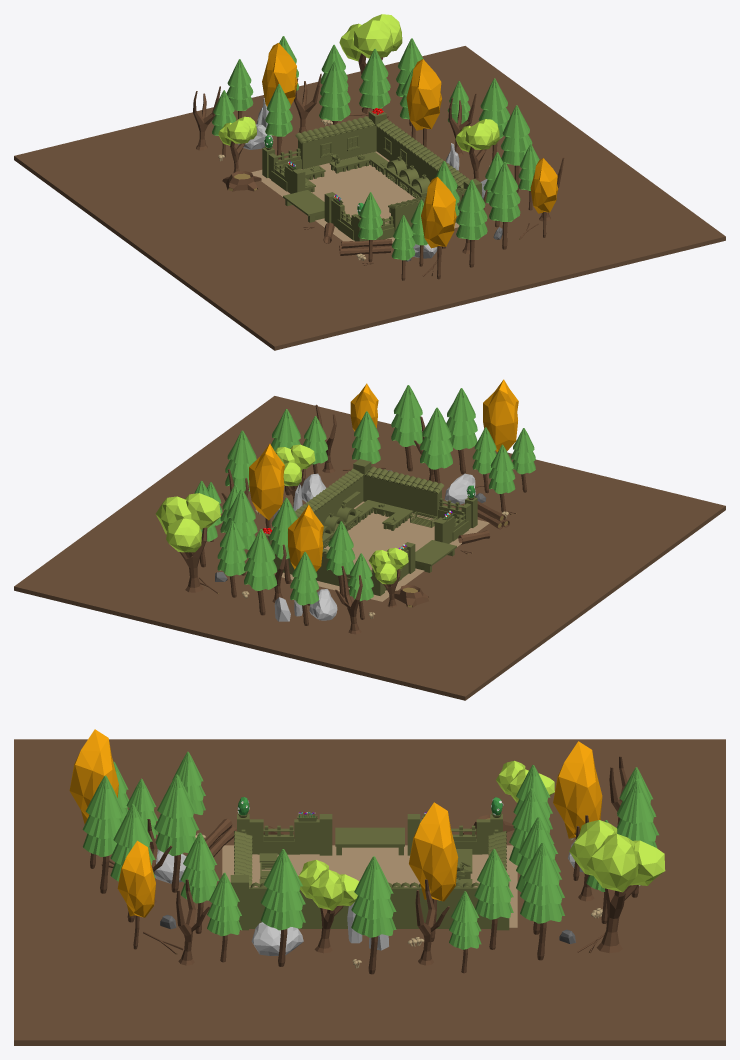
The model's file is ESCENARIO.fbx.
3 views of the same model, one above another, from view 1: azimuth 30°, elevation 25°; view 2: azimuth 150°, elevation 25°; view 3: azimuth 270°, elevation 25° (orthographic). The views are drawn at different scales.
Visible parts, largest first — view 1: ARBOLES_Y_DEMAS1; view 2: ARBOLES_Y_DEMAS1; view 3: ARBOLES_Y_DEMAS1.
Boxes of the visible parts, <box> form: ARBOLES_Y_DEMAS1: <box>14,14,725,350</box>; ARBOLES_Y_DEMAS1: <box>14,379,725,700</box>; ARBOLES_Y_DEMAS1: <box>14,729,725,1045</box>.
Bounding box in the file's own units: 113 × 25.28 × 113.
Materials: 19 (3 with a texture image).
